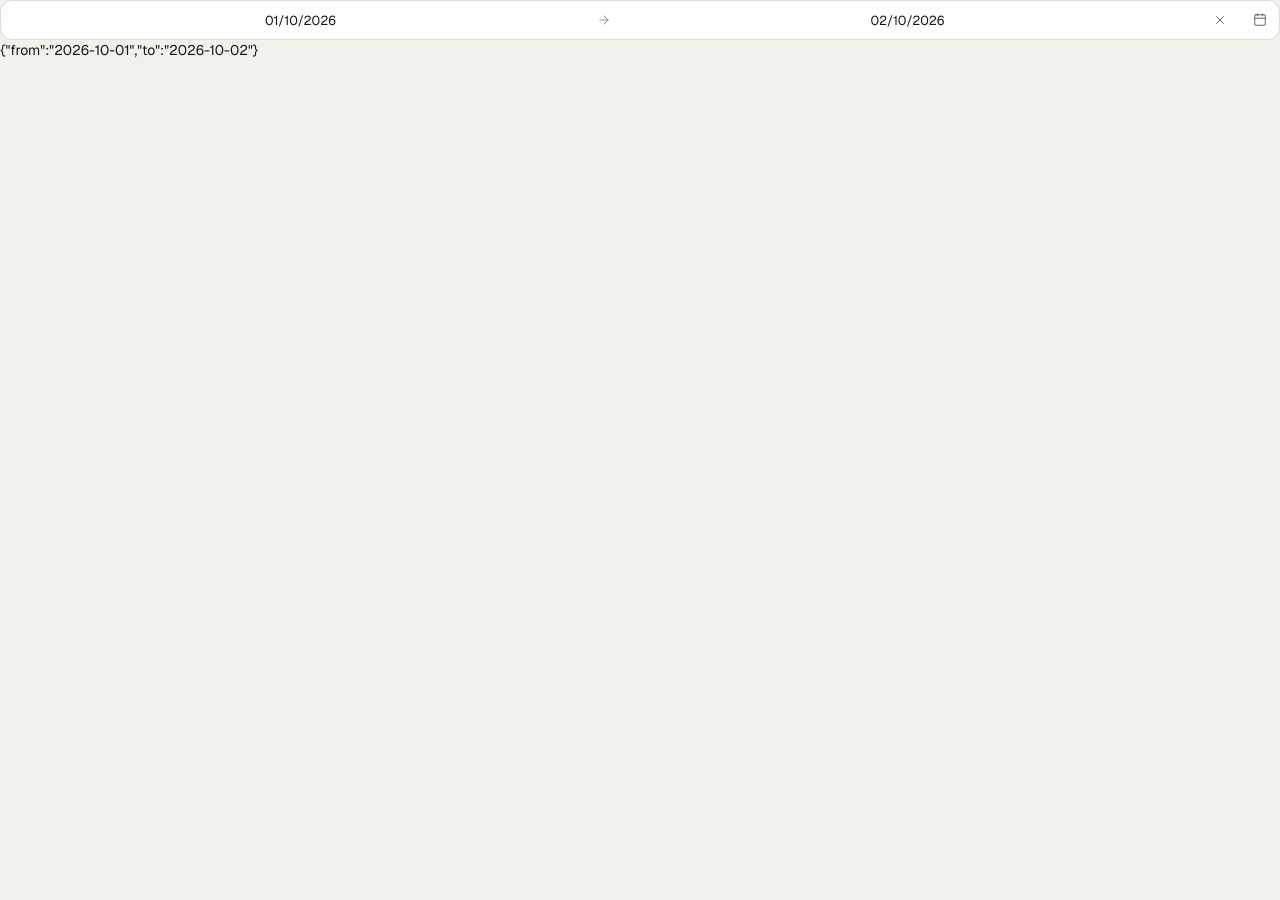
Test case: DateRangePicker › intervalo incompleto: fechar sem o fim descarta o início
Click the field named "Data inicial".
click(300, 20)  # box left=12, top=0, right=589, bottom=40
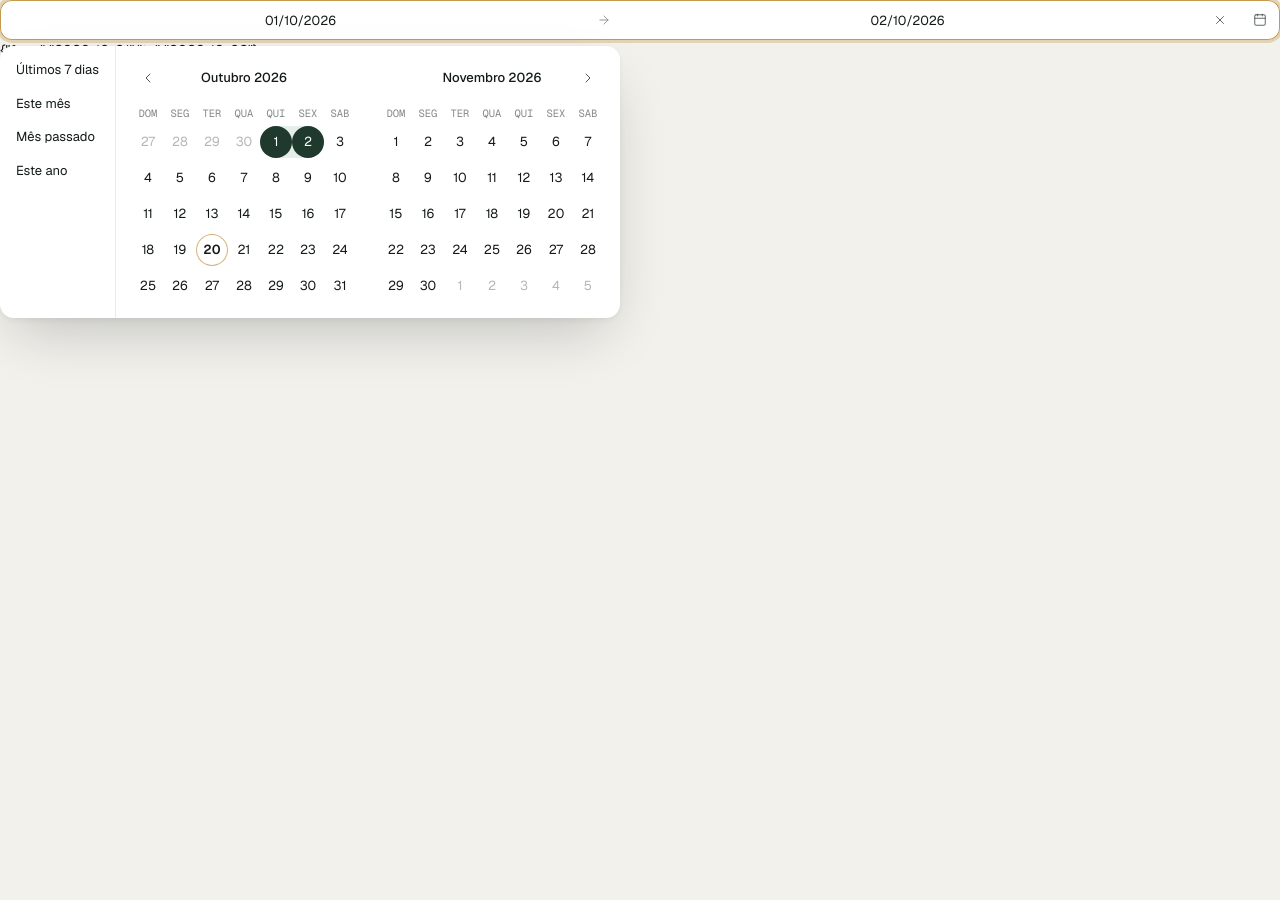
Click the button "9" below "outubro 2026".
click(308, 178)  # box left=292, top=162, right=324, bottom=194
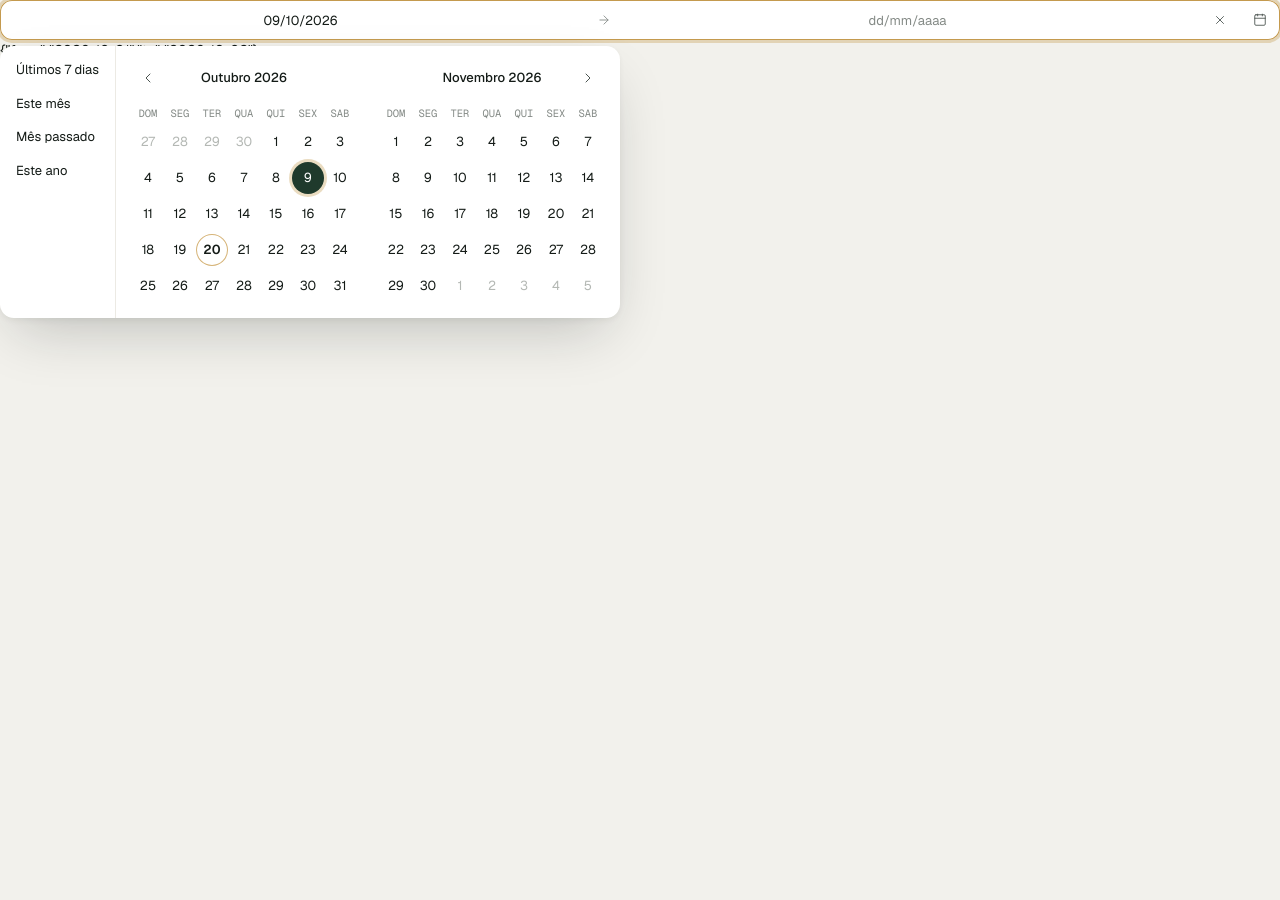
Check: the field named "Data inicial" holds "09/10/2026", box left=12, top=0, right=589, bottom=40
Check: the field named "Data final" is empty, box left=619, top=0, right=1196, bottom=40
Press Escape
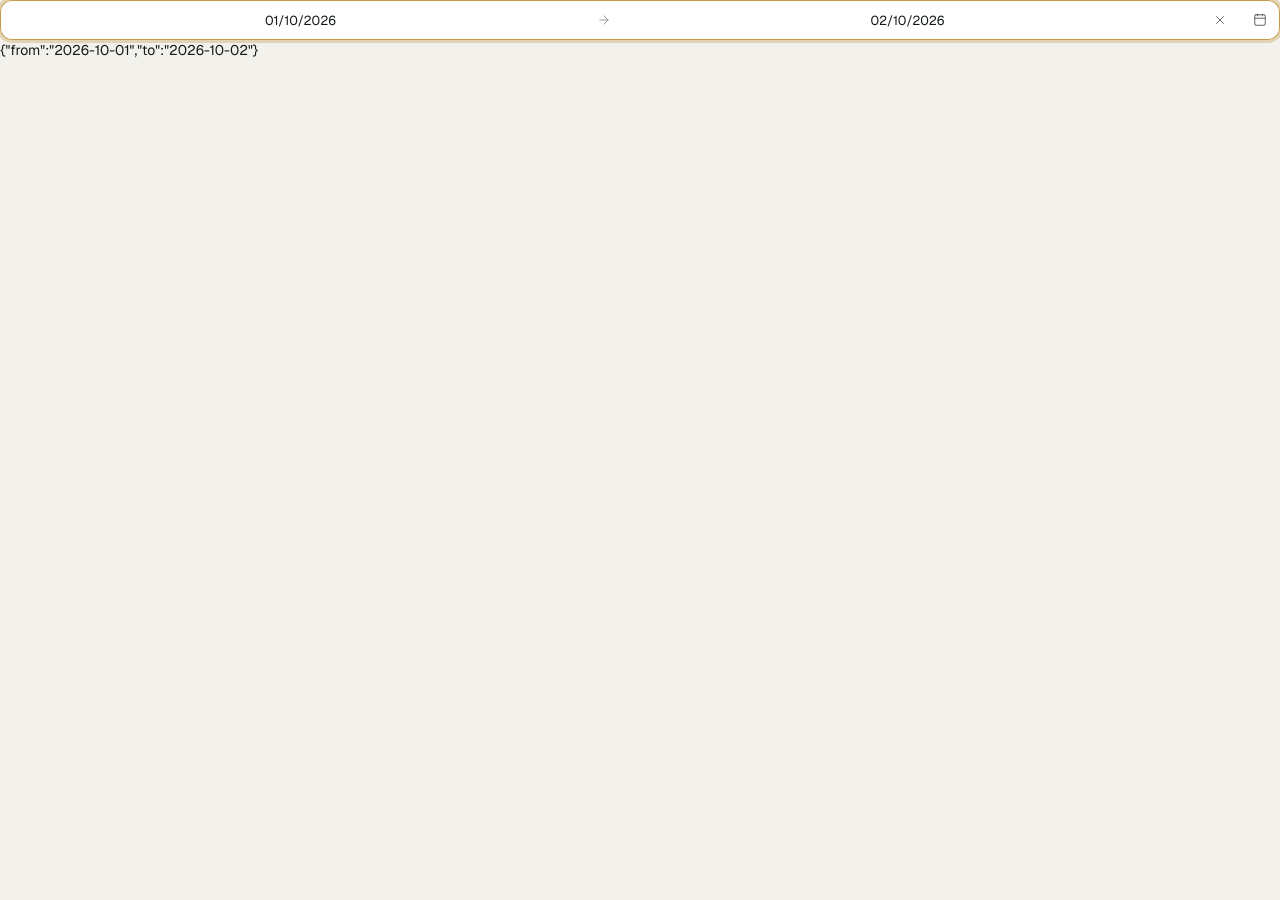
Check: the text named "valor" reads "{\"from\":\"2026-10-01\",\"to\":\"2026-10-02\"}", box left=0, top=41, right=258, bottom=59
Check: the field named "Data inicial" holds "01/10/2026", box left=12, top=0, right=589, bottom=40
Check: the field named "Data final" holds "02/10/2026", box left=619, top=0, right=1196, bottom=40
